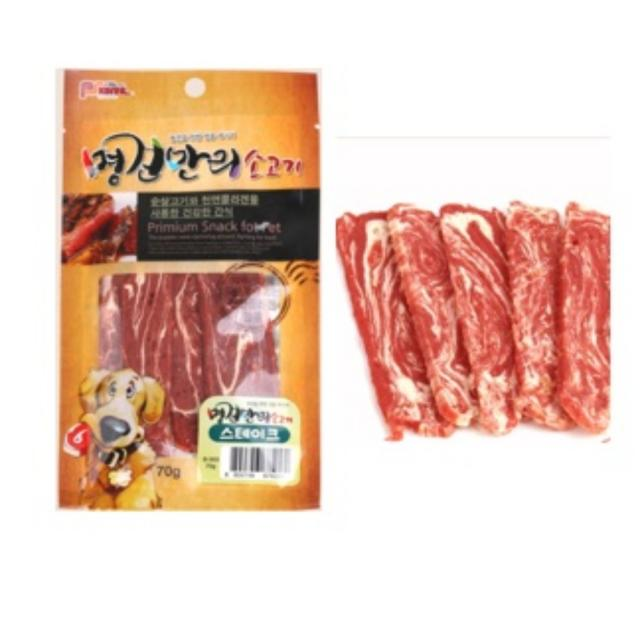beef: (345, 208, 608, 424)
